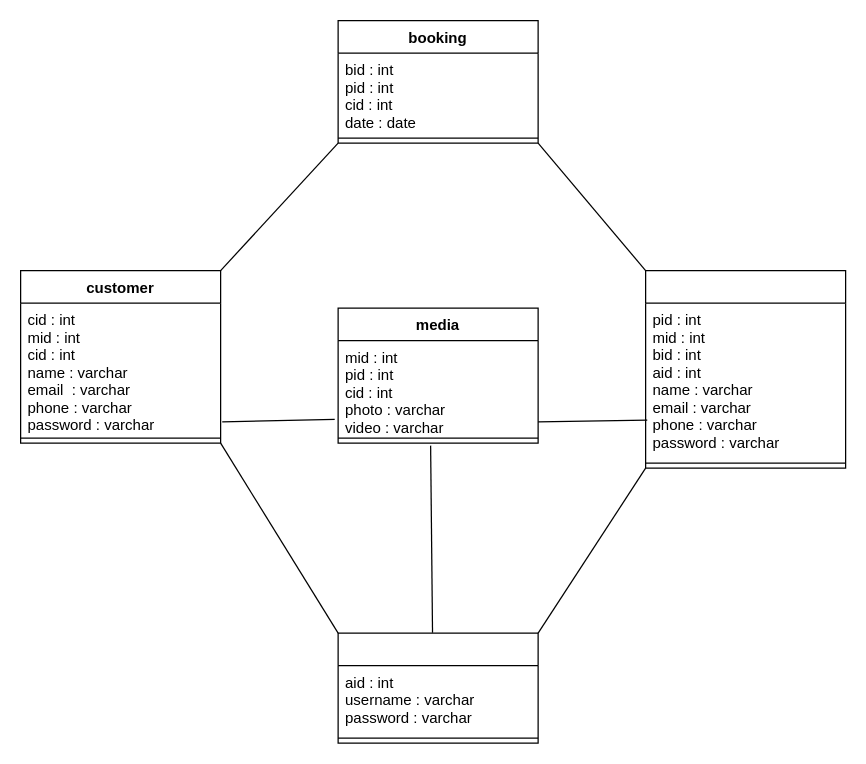
Some shapes in this 866 by 764 pixel diagram are drawn without their labels. Each missing label, with the box of its shape:
admin: (337, 632, 538, 743)
photographer: (644, 269, 846, 468)
